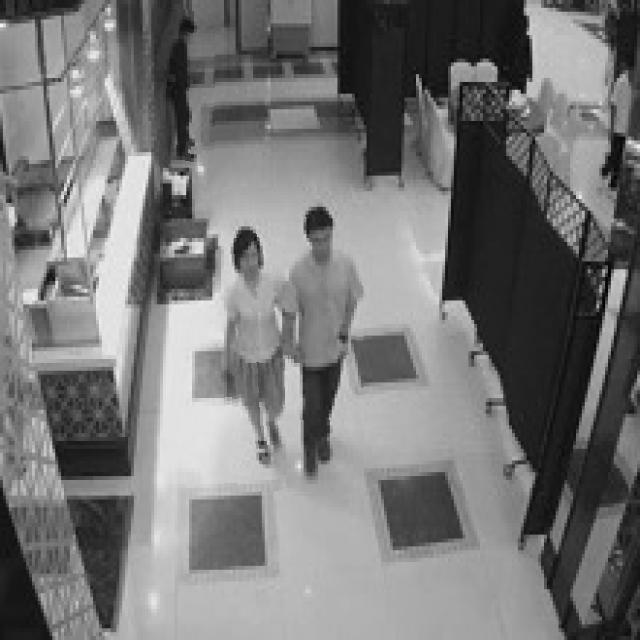normal: (286, 183, 364, 494), (225, 188, 286, 492), (156, 9, 215, 166)
